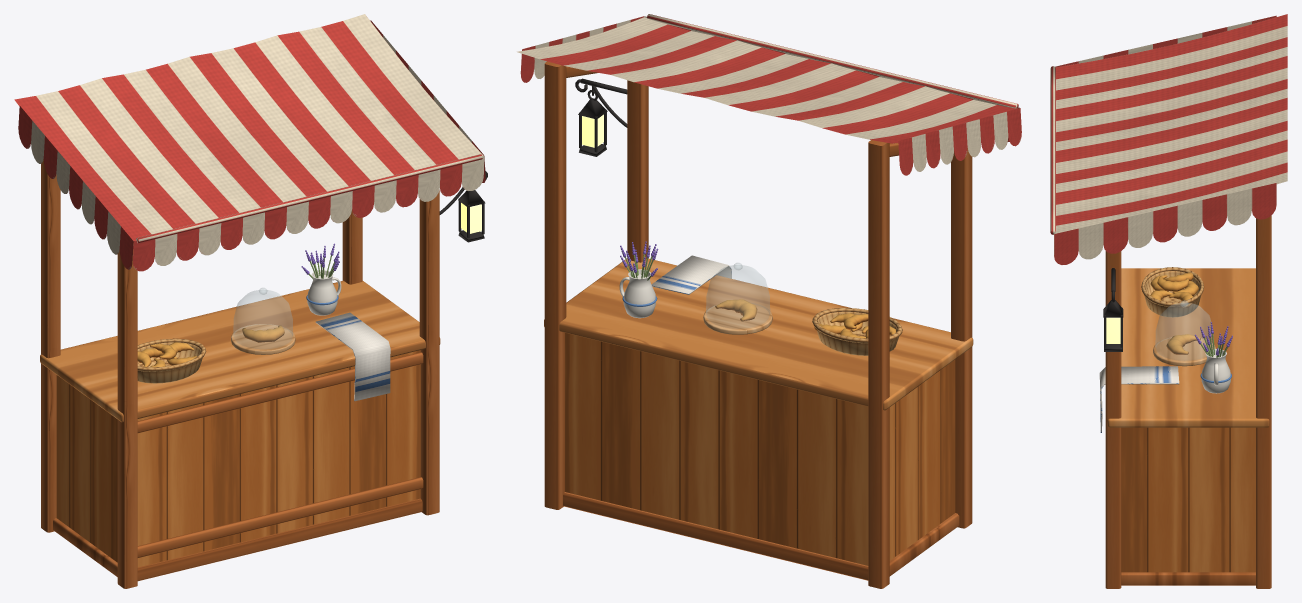
Rendered from bakery_stall.glb.
3 views of the same model, side by side, from view 1: azimuth 30°, elevation 25°; view 2: azimuth 150°, elevation 25°; view 3: azimuth 270°, elevation 25° (orthographic). The views are drawn at different scales.
Parts seen in each view (by area): view 1: model; view 2: model; view 3: model.
Boxes of the visible parts, x1,y1,x2,y2 form: model: (14,14,487,588); model: (517,14,1021,588); model: (1050,14,1287,588).
Bounding box in the file's own units: 2.2 × 2.32 × 1.2.
Materials: 15 (8 with a texture image).
